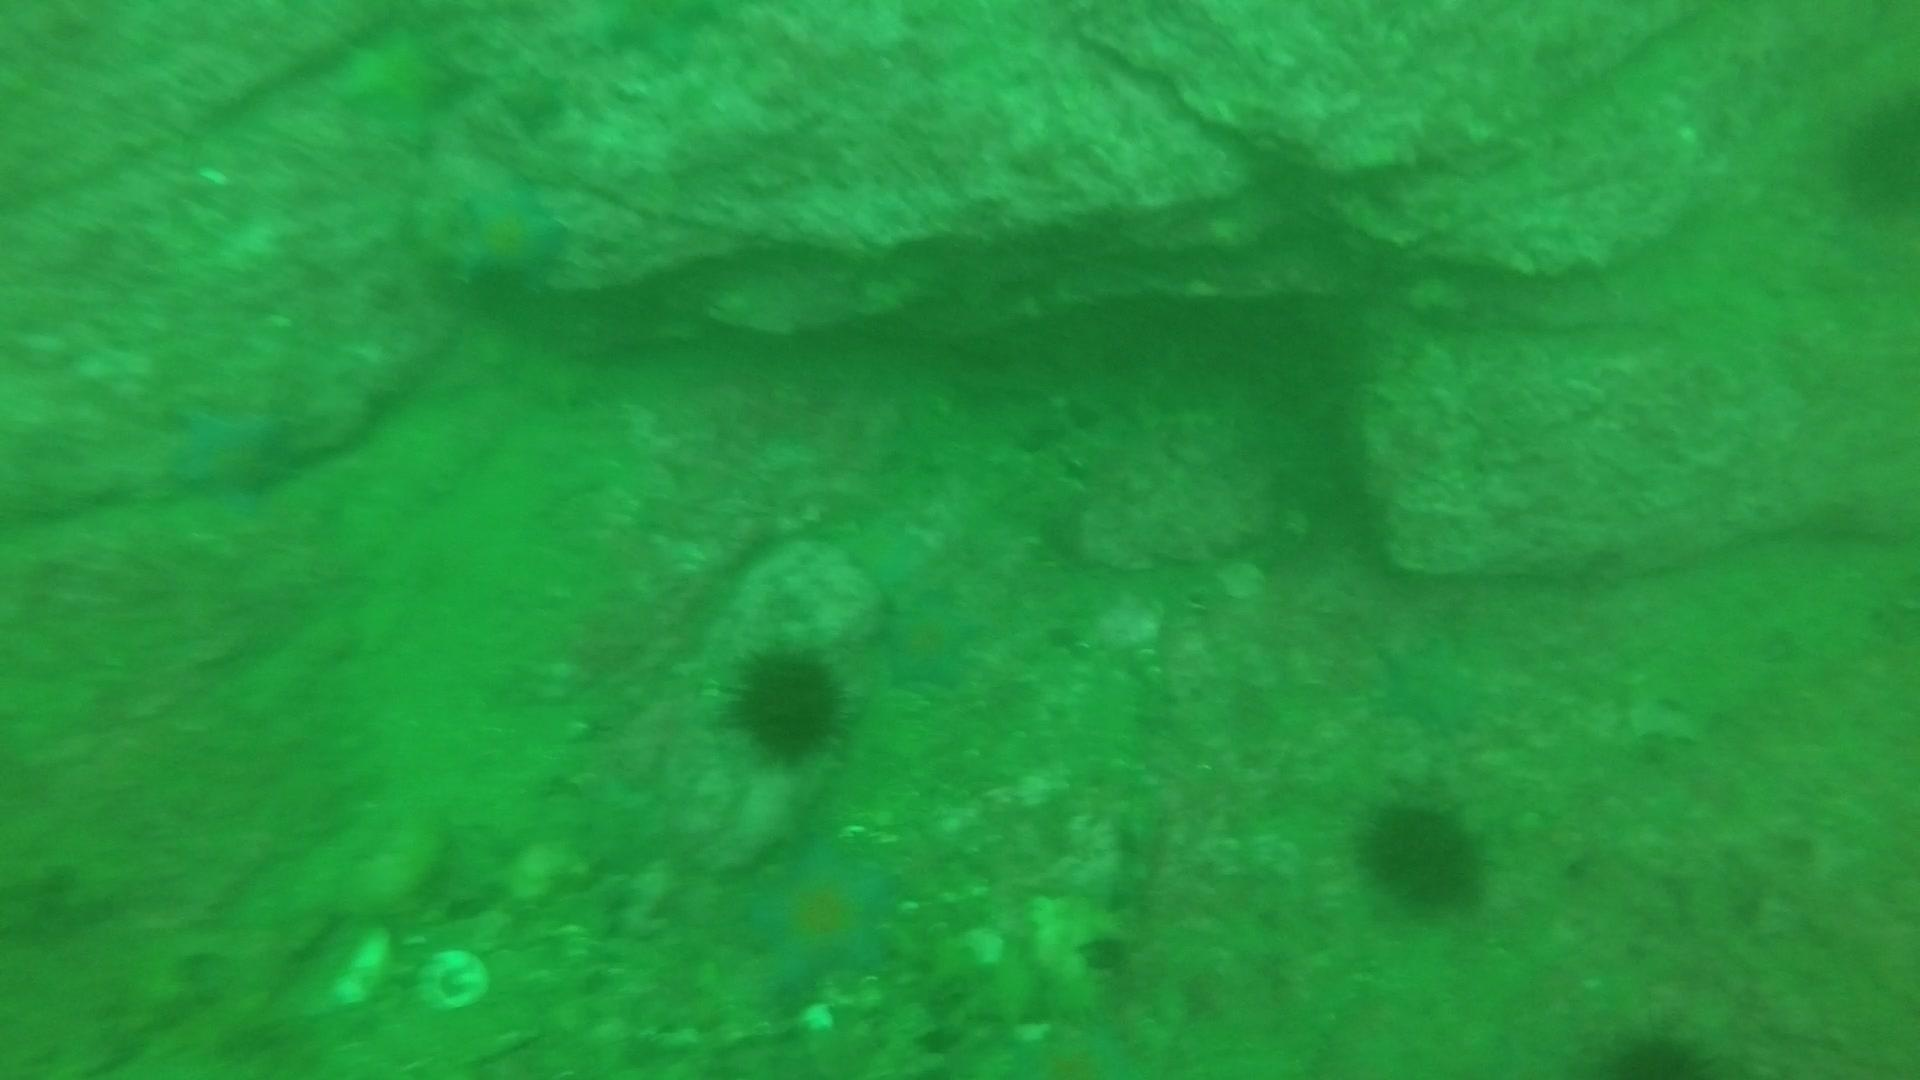echinus: (1352, 789, 1491, 918), (720, 637, 855, 767), (1828, 83, 1919, 225), (1594, 1018, 1720, 1077), (1073, 924, 1139, 982)
starfish: (738, 837, 909, 1002), (331, 25, 477, 138), (164, 393, 301, 509), (444, 175, 574, 293), (1365, 629, 1495, 741), (872, 582, 988, 695), (835, 502, 944, 597), (1004, 1013, 1145, 1076)
